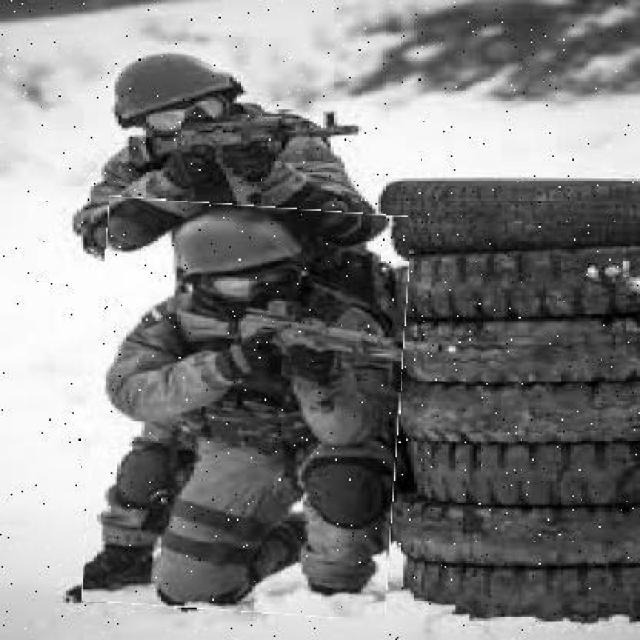Person: (60, 50, 374, 604), (90, 203, 406, 617)
